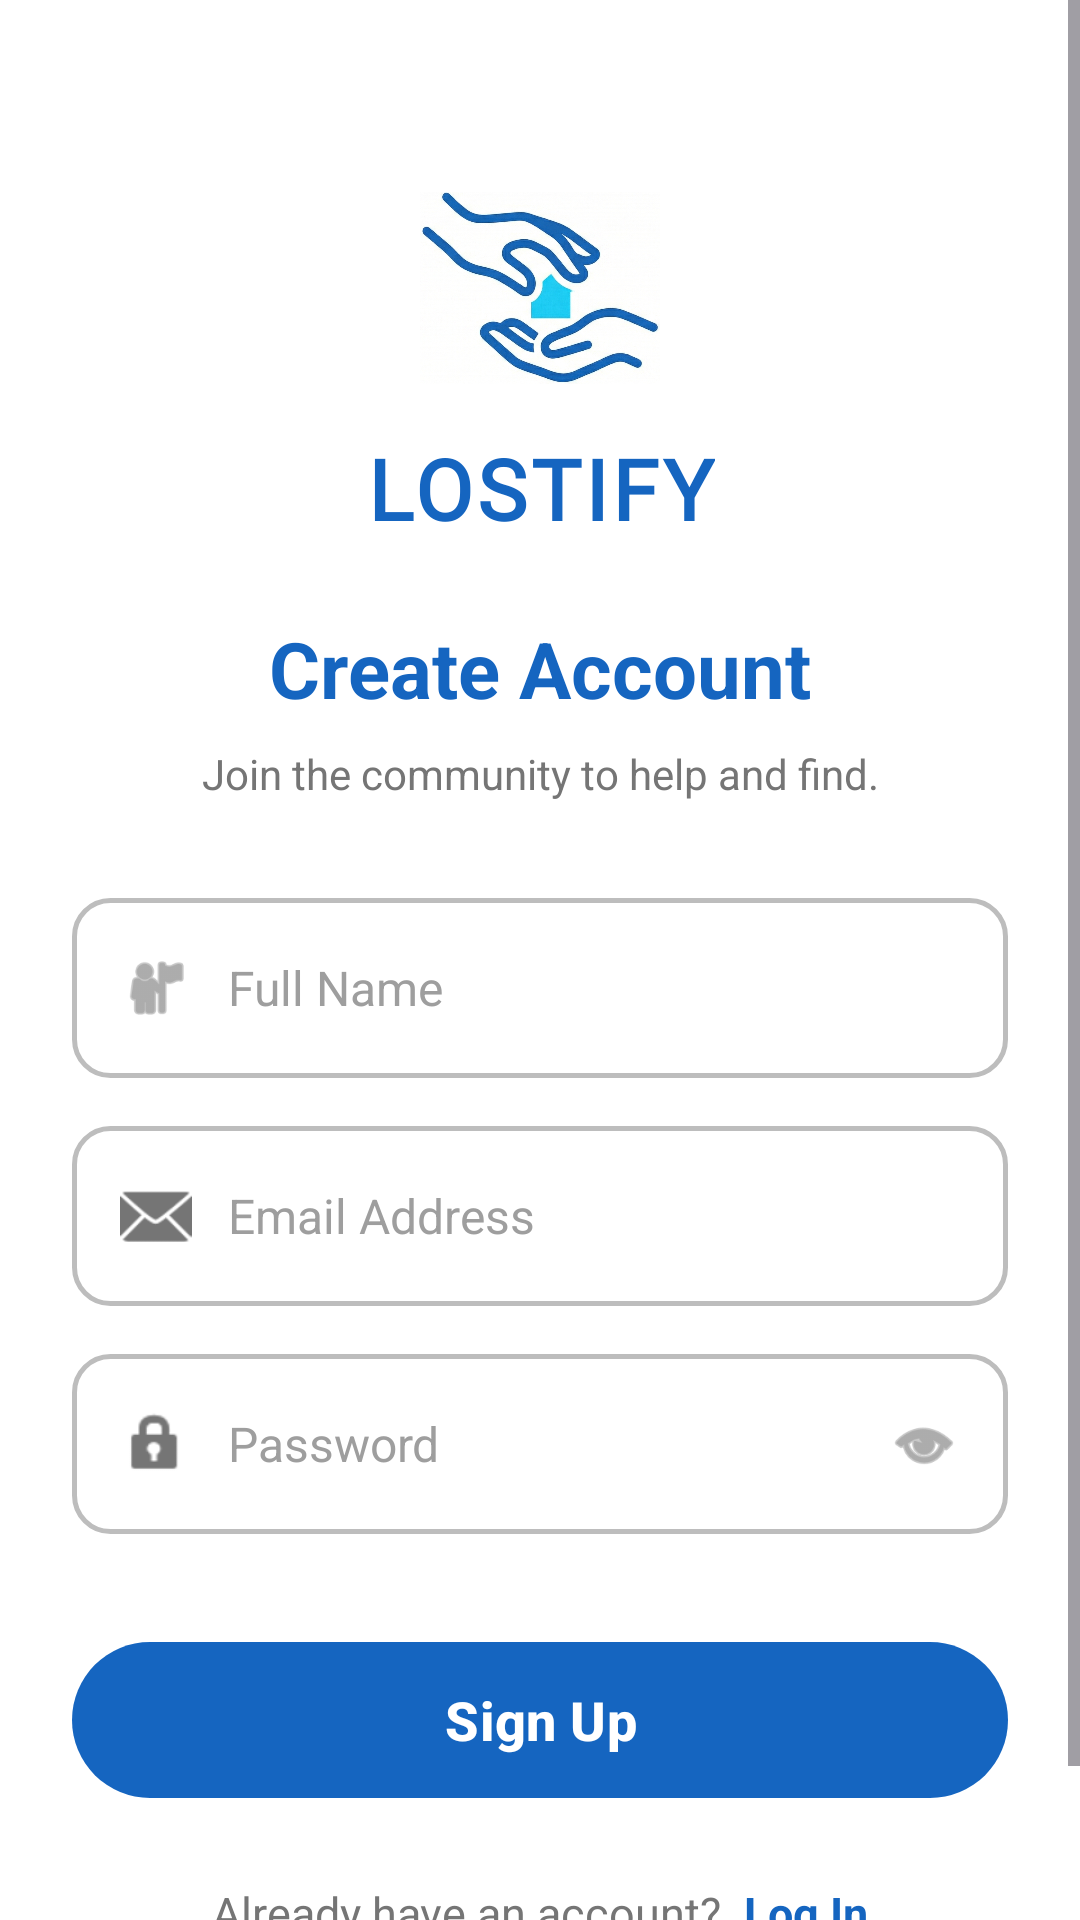

Named icons in this screenshot (1080 x 1920) and their bounding boxes, (x1, y1, x2, y2):
lock idle: (131, 1414, 178, 1469)
view: (895, 1428, 953, 1464)
